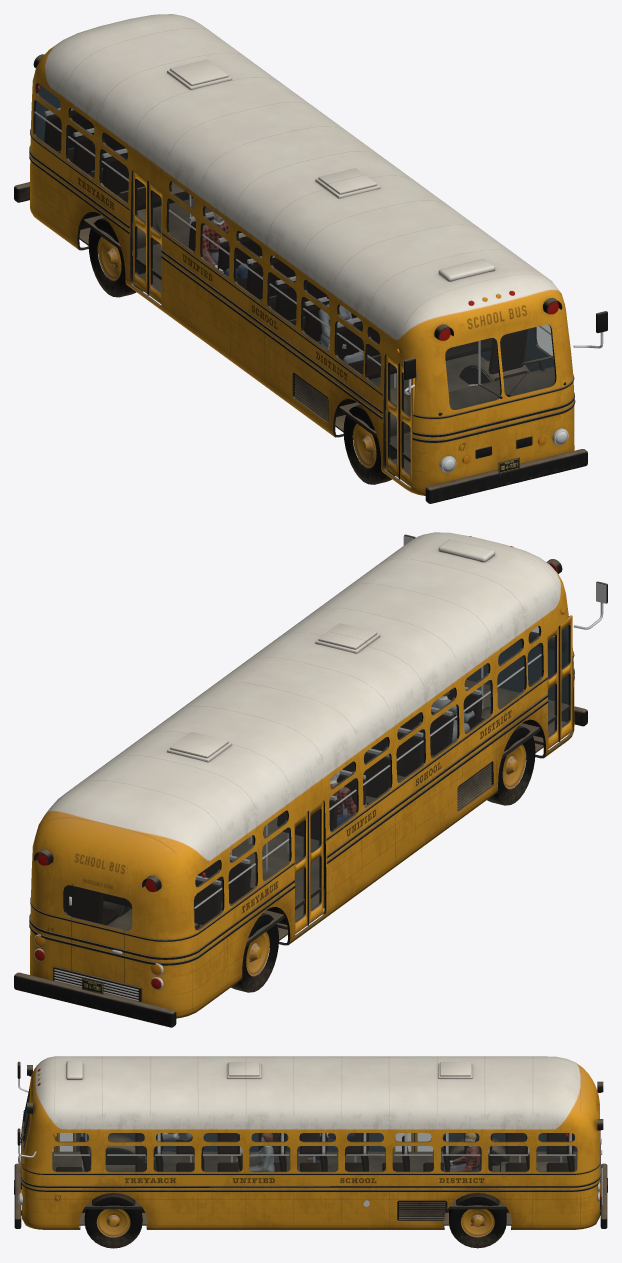
The model's file is nuketown_bus.glb.
The picture shows the model from 3 angles, top to bottom: view 1: azimuth 30°, elevation 25°; view 2: azimuth 150°, elevation 25°; view 3: azimuth 270°, elevation 25°; orthographic projection. The views are drawn at different scales.
Visible parts, largest first — view 1: bus_A, bus_B, bus_glass, mq_man_plaid_sit-low, mq_woman_sit-low; view 2: bus_A, bus_B, bus_glass; view 3: bus_A, bus_B, bus_glass, mq_man_plaid_sit-low, mq_woman_sit-low.
Boxes of the visible parts, box(x1,y1,x2,y2) form: bus_A: box(14, 14, 607, 503); bus_B: box(35, 84, 565, 484); bus_glass: box(33, 83, 555, 473); mq_man_plaid_sit-low: box(202, 212, 252, 278); mq_woman_sit-low: box(318, 295, 363, 363); bus_A: box(14, 532, 607, 1027); bus_B: box(64, 626, 569, 992); bus_glass: box(64, 625, 568, 929); bus_A: box(14, 1056, 607, 1229); bus_B: box(21, 1095, 600, 1248); bus_glass: box(24, 1090, 577, 1171); mq_man_plaid_sit-low: box(306, 1133, 480, 1171); mq_woman_sit-low: box(145, 1133, 274, 1171).
Bounding box in the file's own units: 3.01 × 3.06 × 10.68.
5 materials, 4 textured.
